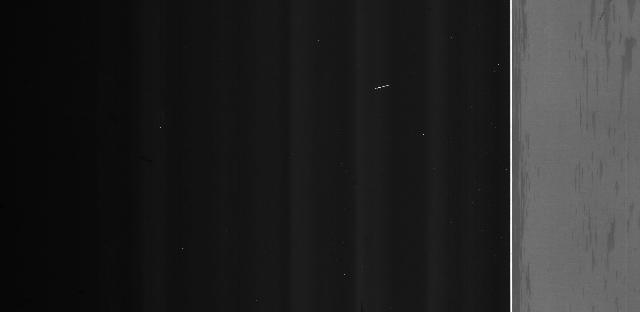water_spot: (572, 2, 637, 258), (512, 2, 534, 309)
